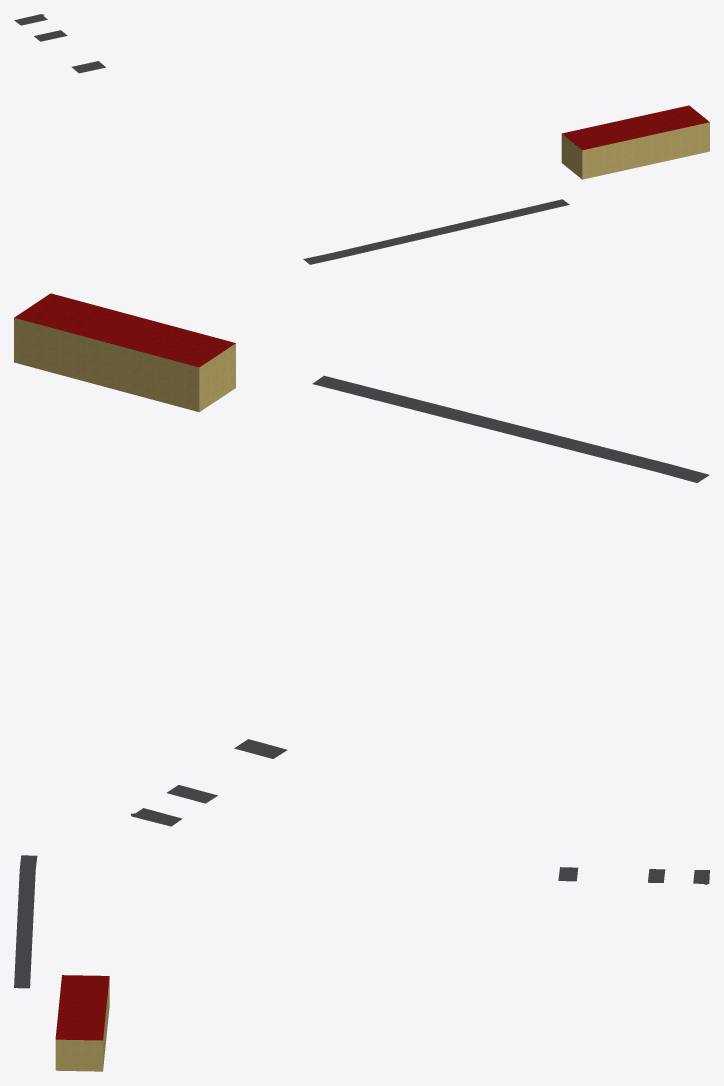
Rendered from district_2_-2.glb.
The picture shows the model from 3 angles, top to bottom: view 1: azimuth 30°, elevation 25°; view 2: azimuth 150°, elevation 25°; view 3: azimuth 270°, elevation 25°; orthographic projection. The views are drawn at different scales.
Visible parts, largest first — view 1: Building Церковь царственных страстотерпцев, Road w304961364; view 2: Building Церковь царственных страстотерпцев, Road w304961364; view 3: Building Церковь царственных страстотерпцев, Road w304961364.
Boxes of the visible parts, x1=… form: Building Церковь царственных страстотерпцев: x1=561, y1=105, x2=709, y2=179; Road w304961364: x1=330, y1=199, x2=569, y2=258; Building Церковь царственных страстотерпцев: x1=14, y1=293, x2=235, y2=412; Road w304961364: x1=312, y1=375, x2=669, y2=472; Building Церковь царственных страстотерпцев: x1=55, y1=975, x2=109, y2=1071; Road w304961364: x1=14, y1=869, x2=35, y2=988.
Size of the model in its own units: 112 by 7.5 by 152.
3 materials, 3 textured.
